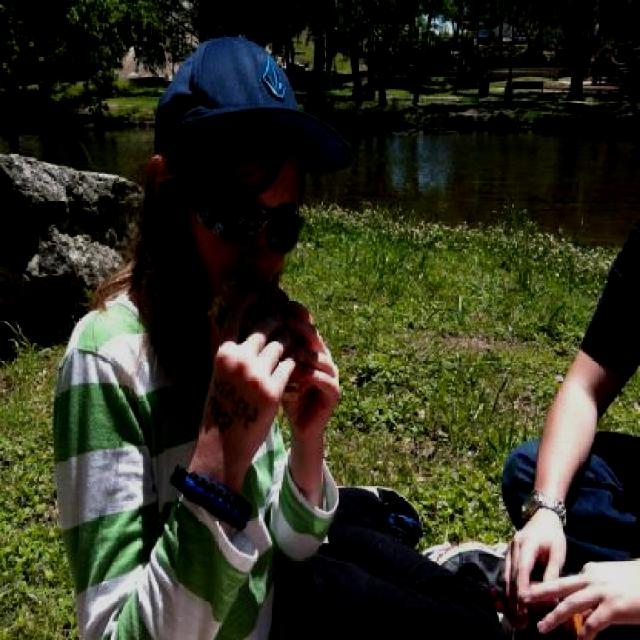glasses: (178, 174, 304, 263)
hand_noglove: (194, 280, 304, 452), (512, 538, 640, 640), (490, 498, 590, 618), (282, 299, 346, 424)
head_nohelmet: (150, 44, 348, 156)
person: (4, 52, 399, 640)
